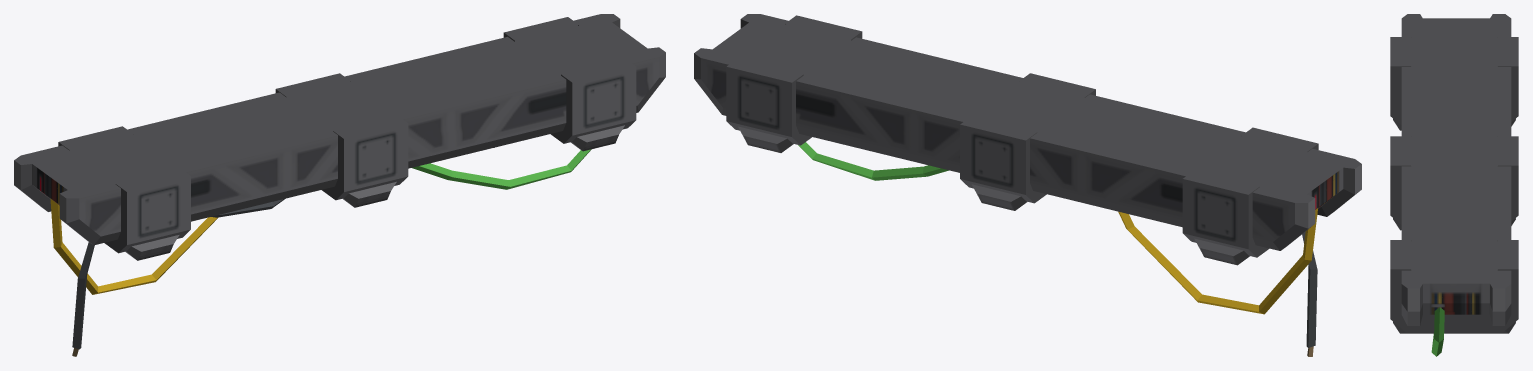
The model's file is SM_Prop_Wires_07.fbx.
3 renders of one model, left to right at view 1: azimuth 30°, elevation 25°; view 2: azimuth 150°, elevation 25°; view 3: azimuth 270°, elevation 25°, orthographic. The views are drawn at different scales.
Visible parts, largest first — view 1: SM_Prop_Wires_07; view 2: SM_Prop_Wires_07; view 3: SM_Prop_Wires_07.
Boxes of the visible parts, box(x1,y1,x2,y2) form: SM_Prop_Wires_07: box(14, 14, 665, 356); SM_Prop_Wires_07: box(694, 14, 1361, 356); SM_Prop_Wires_07: box(1390, 14, 1518, 356).
Bounding box in the file's own units: 236 × 68.2 × 46.63.
